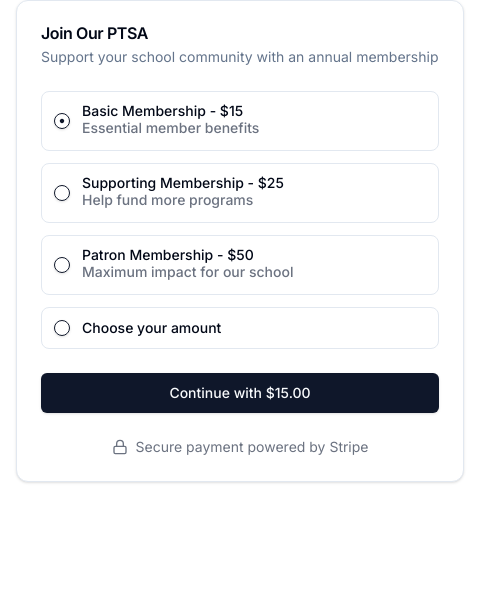
Test: Stripe Test Card Scenarios › Validation Scenarios › should validate maximum payment amount
Click the radio button named "Choose your amount" next to "Choose your amount": (62, 328) [54,320,70,336]
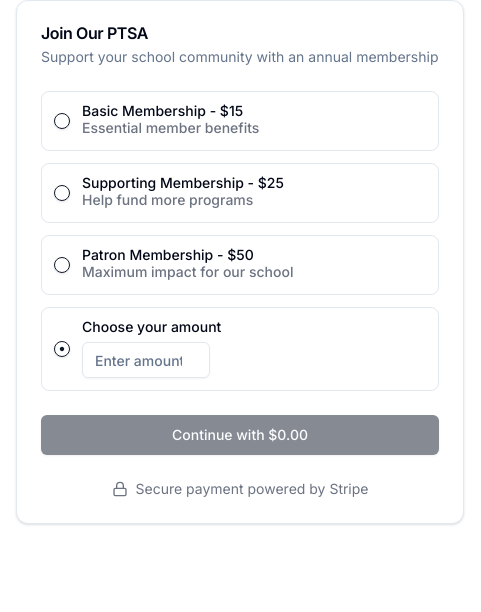
In the number field with placeholder "Enter amount": (146, 360) [82,342,210,378], type "150"
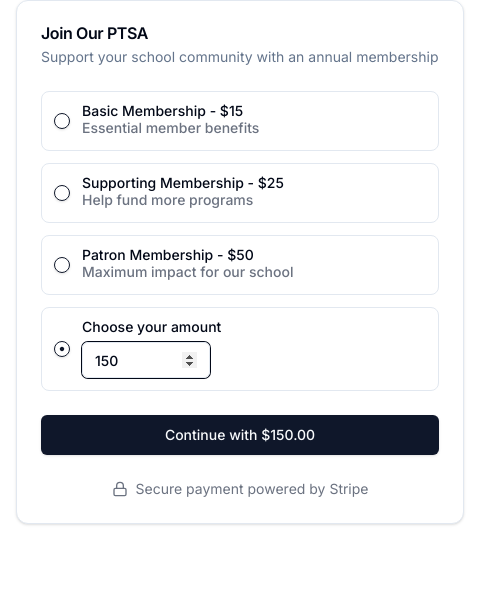
Click the button "Continue with $150.00": (240, 435) [41,415,439,455]
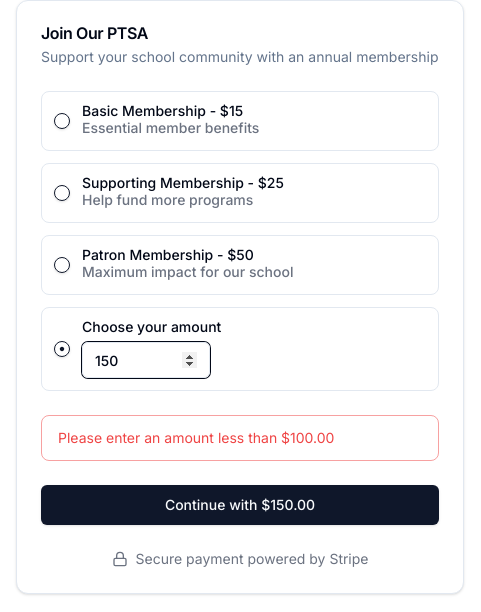
Expected: the text "Please enter an amount less than $100.00" is shown, [58,429,334,446]
